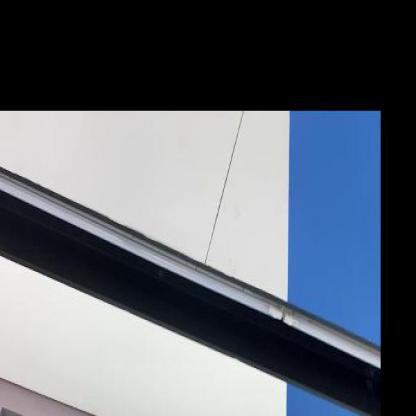light_off: (0, 140, 379, 415)
